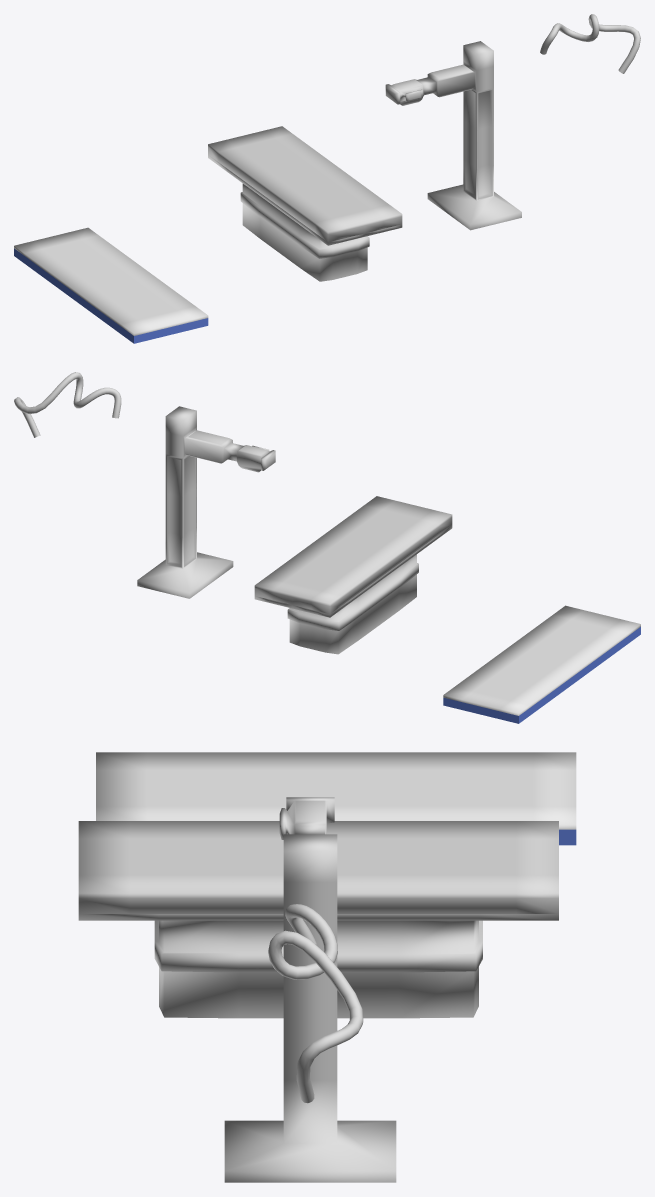
The model's file is Kasur_atas.glb.
3 renders of one model, top to bottom at view 1: azimuth 30°, elevation 25°; view 2: azimuth 150°, elevation 25°; view 3: azimuth 270°, elevation 25°, orthographic. The views are drawn at different scales.
Visible parts, largest first — view 1: KASUR, Object_5, Tiang, Object_4, kabel; view 2: KASUR, Object_5, Tiang, Object_4, kabel; view 3: KASUR, Object_5, Tiang, kabel.
Boxes of the visible parts, x1,y1,x2,y2 form: KASUR: (208,126,402,281); Object_5: (14,227,208,335); Tiang: (385,41,521,230); Object_4: (14,248,208,343); kabel: (540,14,640,73); KASUR: (254,496,452,654); Object_5: (443,605,640,715); Tiang: (137,406,275,598); Object_4: (443,627,640,723); kabel: (14,372,121,437); KASUR: (78,821,558,1018); Object_5: (96,752,576,829); Tiang: (224,797,396,1182); kabel: (268,904,363,1103).
Size of the model in its own units: 7.54 by 2.17 by 2.9.
